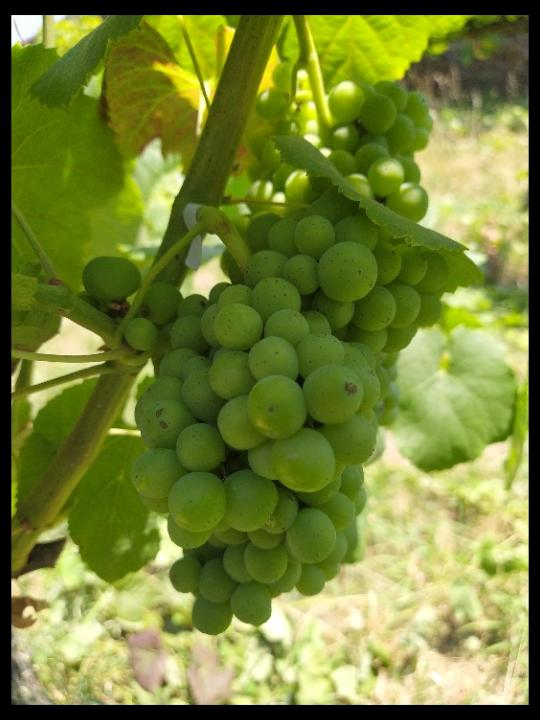grape: (82, 191, 447, 636)
